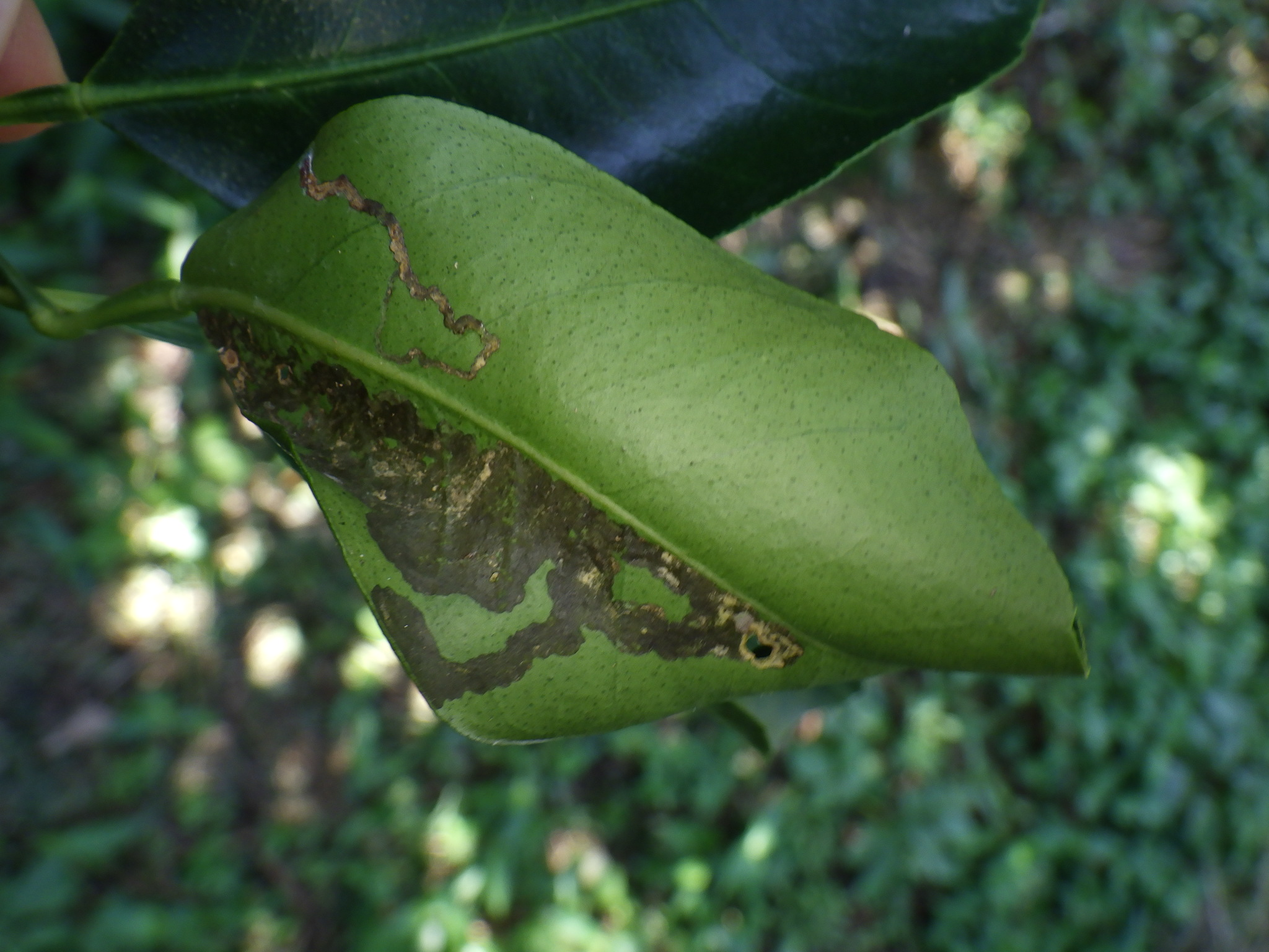Citrus_Leaf_Miner: (201, 313, 803, 708)
